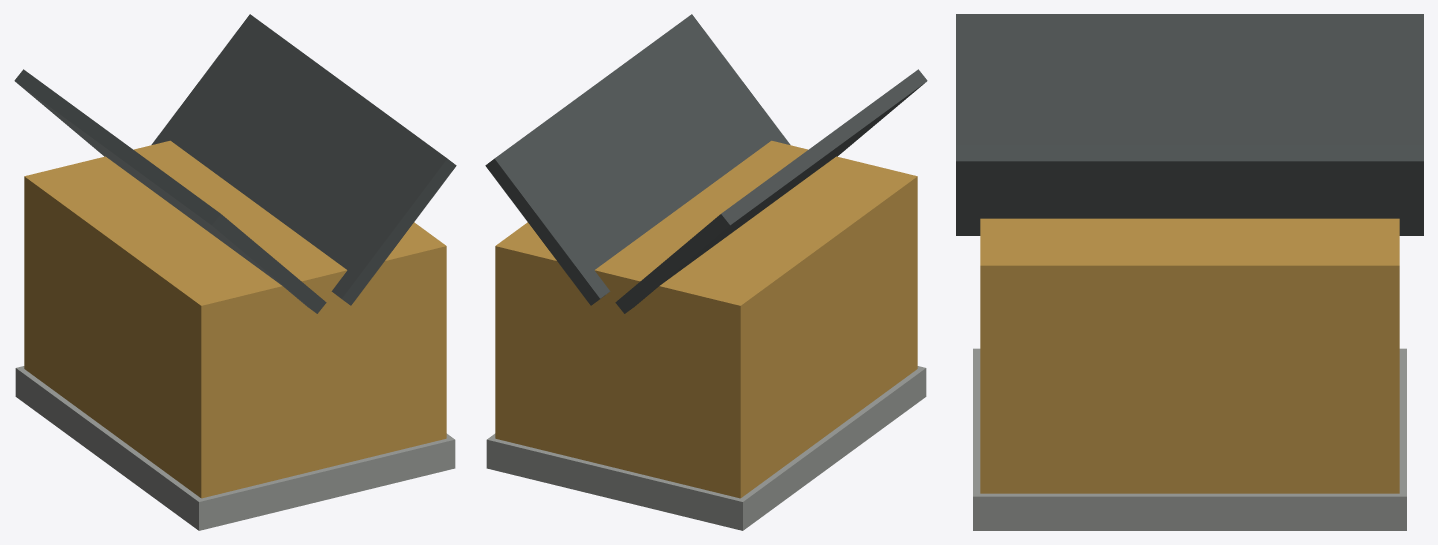
Rendered from norway-house-ochre-cream_lod1.glb.
3 views of the same model, side by side, from view 1: azimuth 30°, elevation 25°; view 2: azimuth 150°, elevation 25°; view 3: azimuth 270°, elevation 25° (orthographic). The views are drawn at different scales.
Visible parts, largest first — view 1: RF_House_Walls, RF_House_RoofB, RF_House_Foundation, RF_House_RoofA; view 2: RF_House_Walls, RF_House_RoofB, RF_House_Foundation, RF_House_RoofA; view 3: RF_House_Walls, RF_House_RoofA, RF_House_RoofB, RF_House_Foundation.
Part boxes in pixels (left/top/right/bottom): RF_House_Walls: left=24, top=140, right=446, bottom=498; RF_House_RoofB: left=151, top=14, right=456, bottom=305; RF_House_Foundation: left=15, top=366, right=455, bottom=530; RF_House_RoofA: left=14, top=69, right=326, bottom=313; RF_House_Walls: left=495, top=140, right=917, bottom=498; RF_House_RoofB: left=485, top=14, right=790, bottom=305; RF_House_Foundation: left=486, top=366, right=926, bottom=530; RF_House_RoofA: left=615, top=69, right=927, bottom=313; RF_House_Walls: left=980, top=218, right=1399, bottom=493; RF_House_RoofA: left=956, top=14, right=1423, bottom=144; RF_House_RoofB: left=956, top=145, right=1423, bottom=235; RF_House_Foundation: left=973, top=348, right=1406, bottom=530.
Size of the model in its own units: 8.35 by 9.93 by 11.15.
